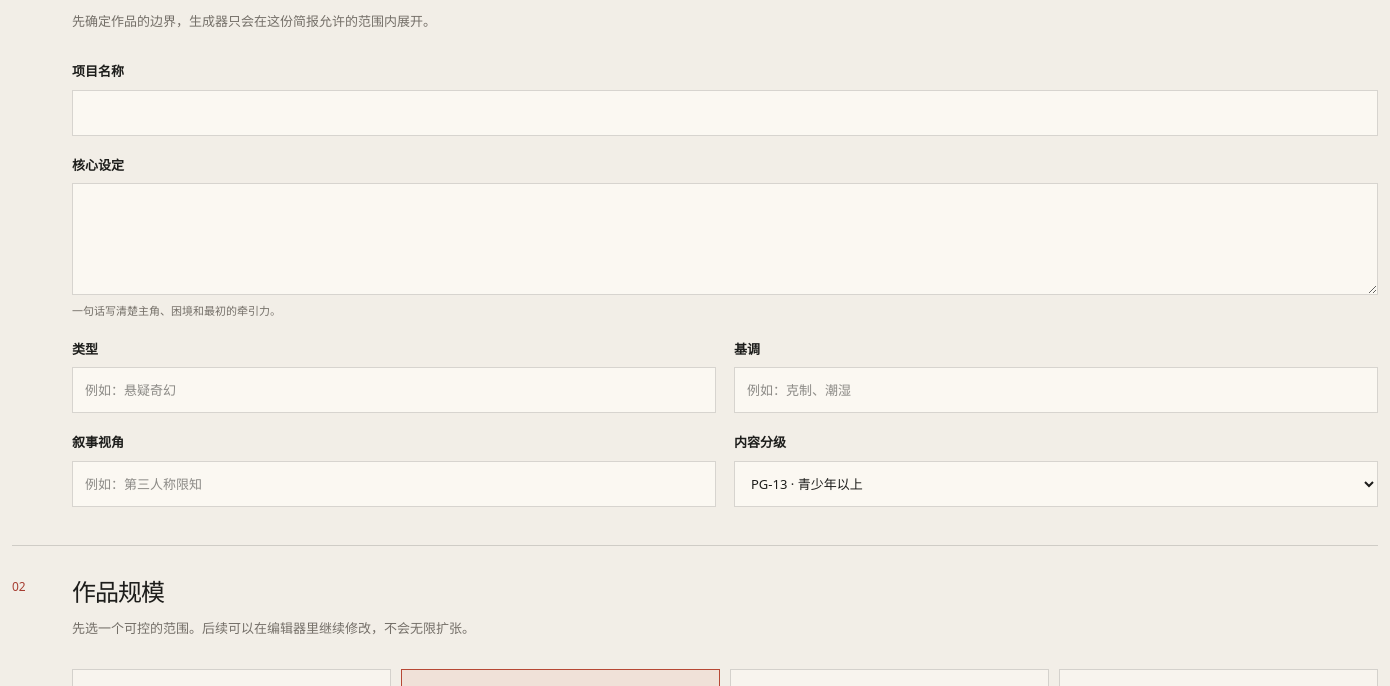
Test: ProjectBriefForm › creates the project and moves into the generation step
In the field labelled "项目名称": (725, 113) [72, 90, 1378, 136], type "夜航船"
In the text box labelled "核心设定": (725, 239) [72, 183, 1378, 295], type "一艘船驶入没有地图的海域。"
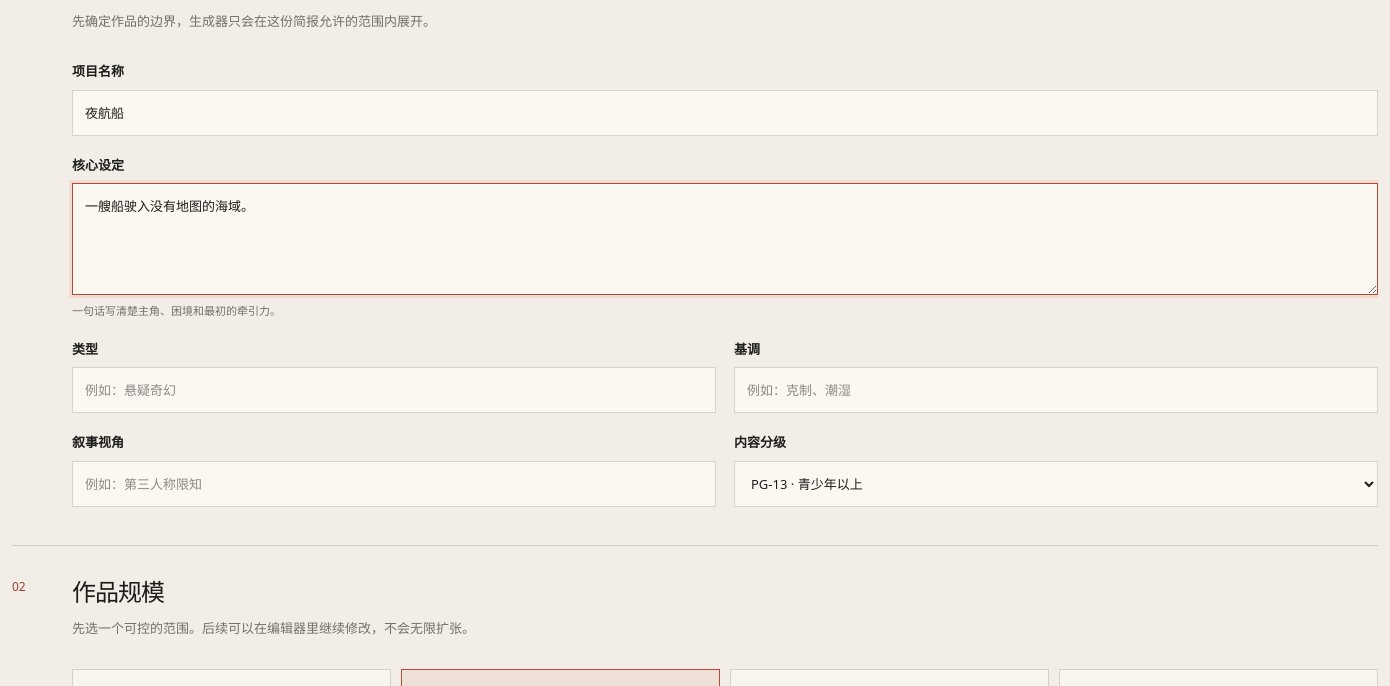
In the field labelled "类型": (394, 390) [72, 367, 716, 413], type "悬疑"
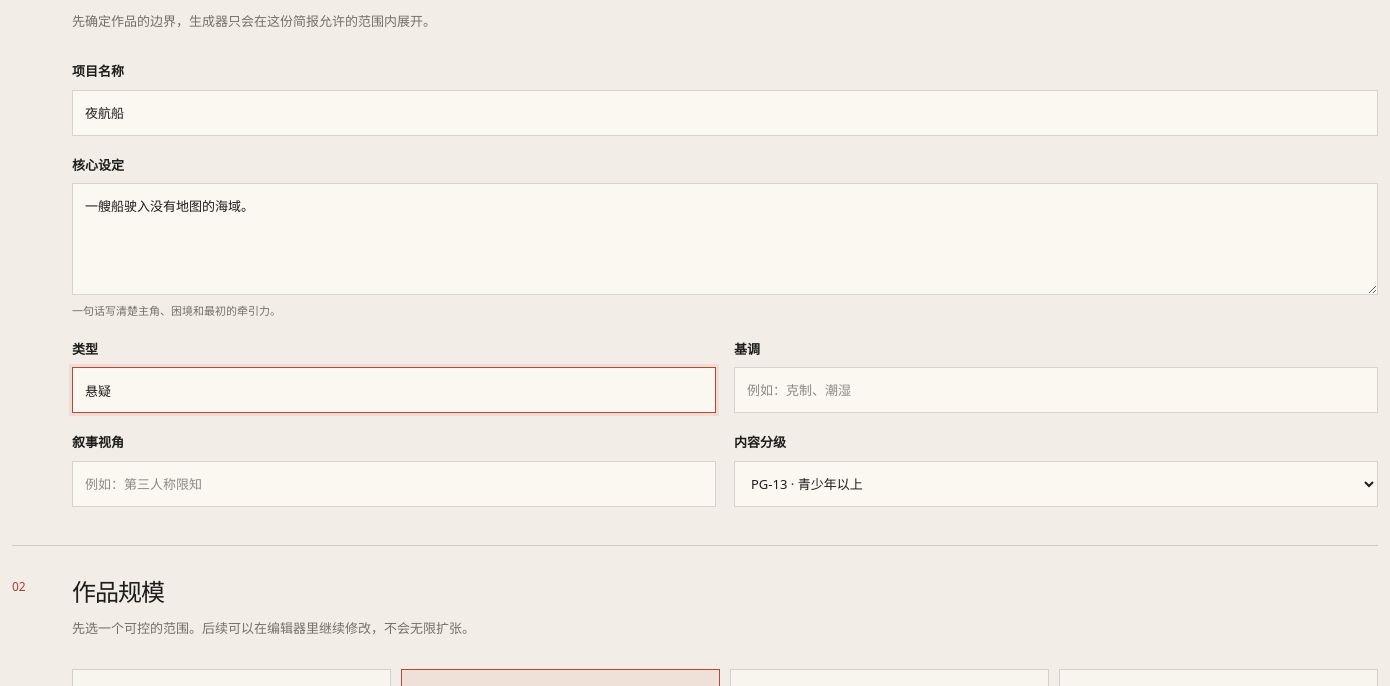
In the field labelled "基调": (1056, 390) [734, 367, 1378, 413], type "冷峻"
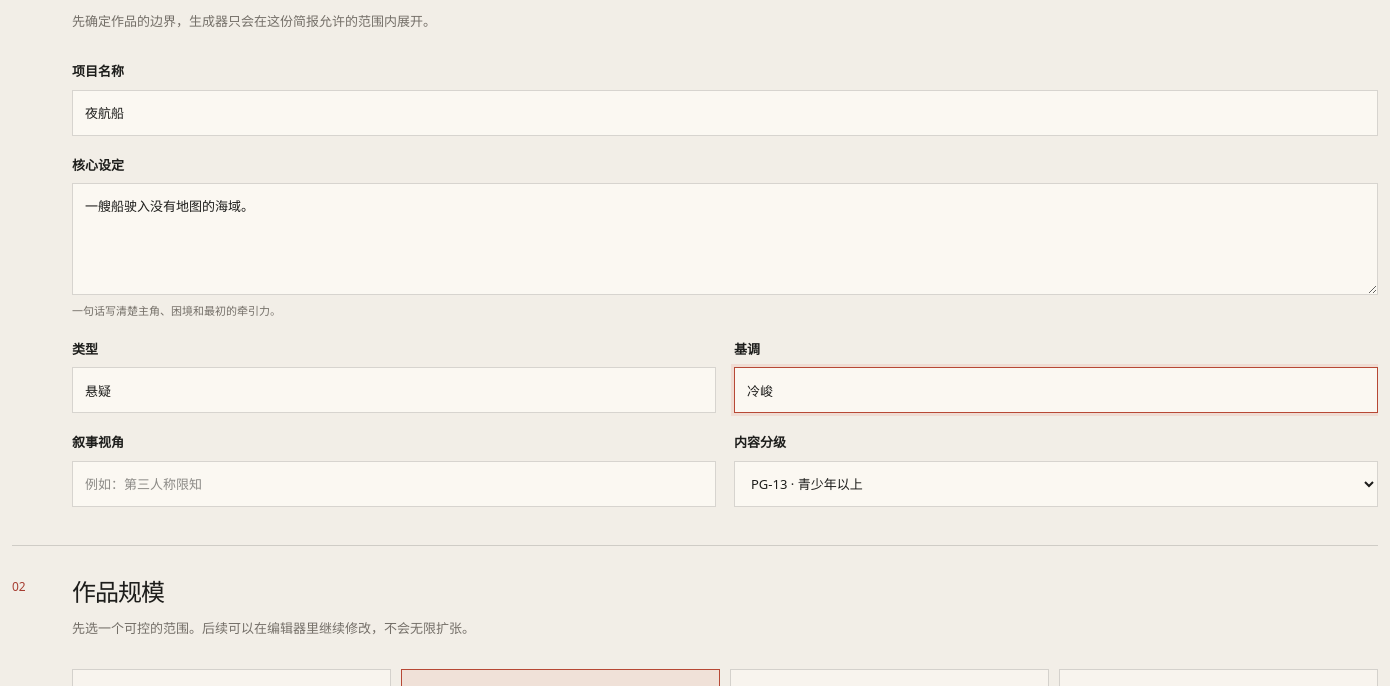
In the field labelled "叙事视角": (394, 484) [72, 461, 716, 507], type "第三人称"
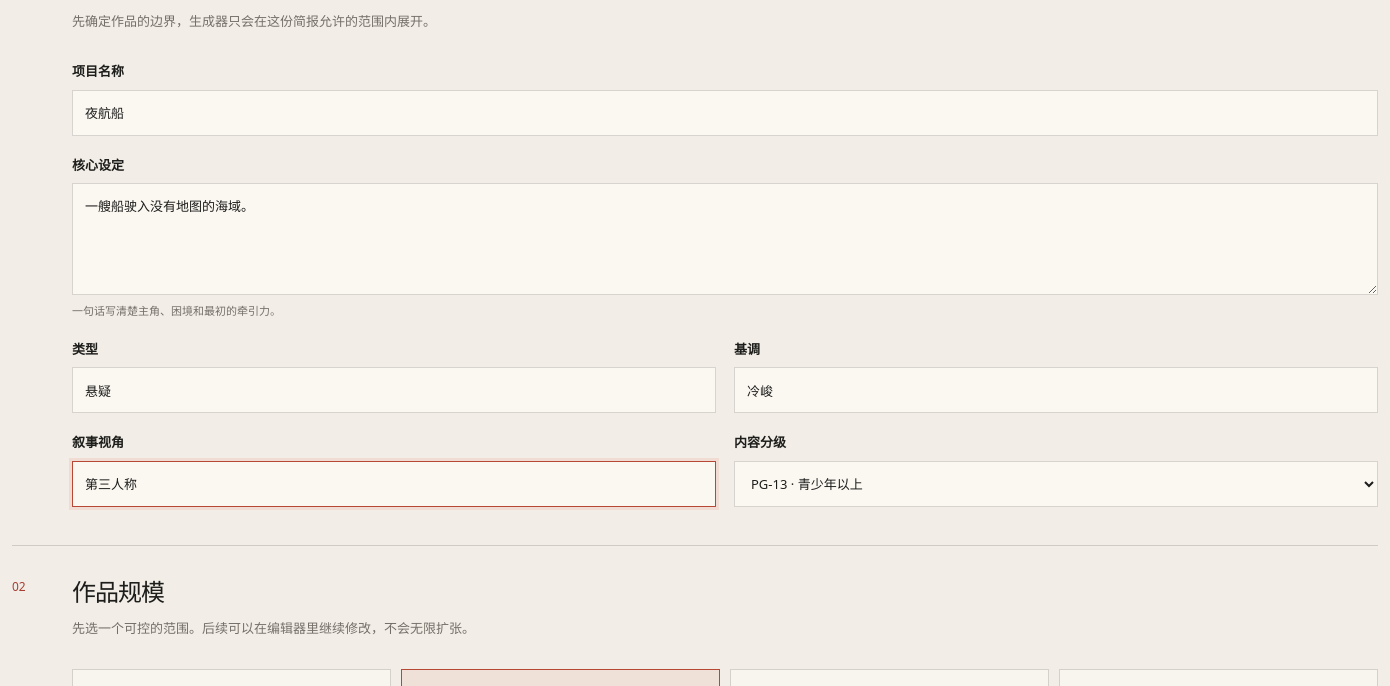
Select "PG-13 · 青少年以上" in the dropdown labelled "内容分级": (1056, 484) [734, 461, 1378, 507]
(page scrolled)
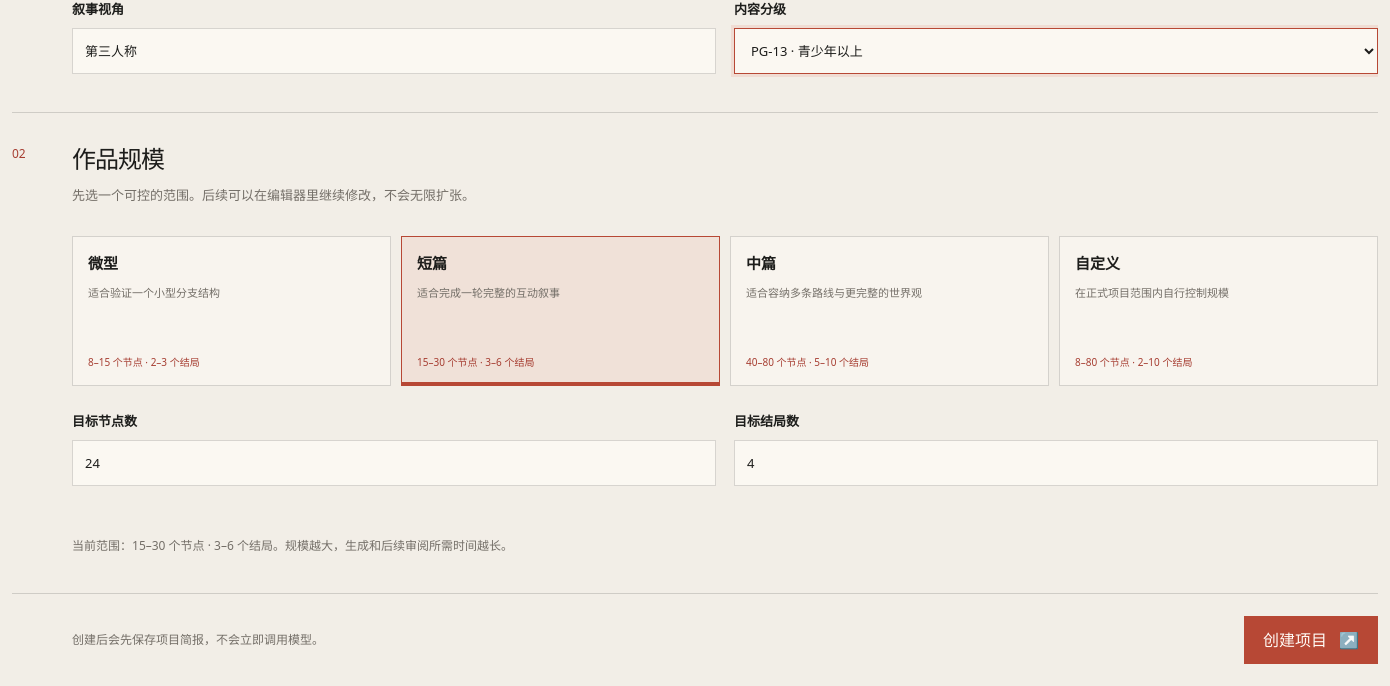
Click the button "创建项目 ↗": (1311, 640) [1244, 616, 1378, 664]
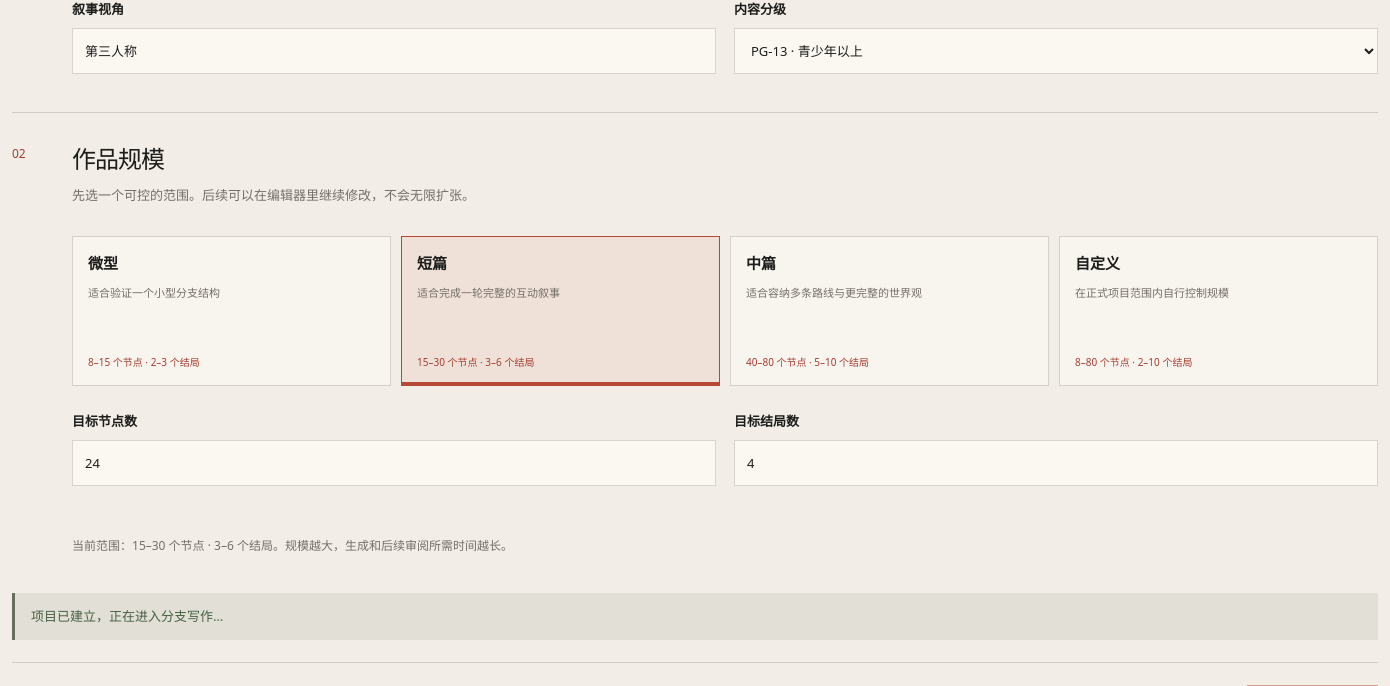
Expected: the text "项目已建立，正在进入分支写作…" is shown, [12, 593, 1378, 640]
